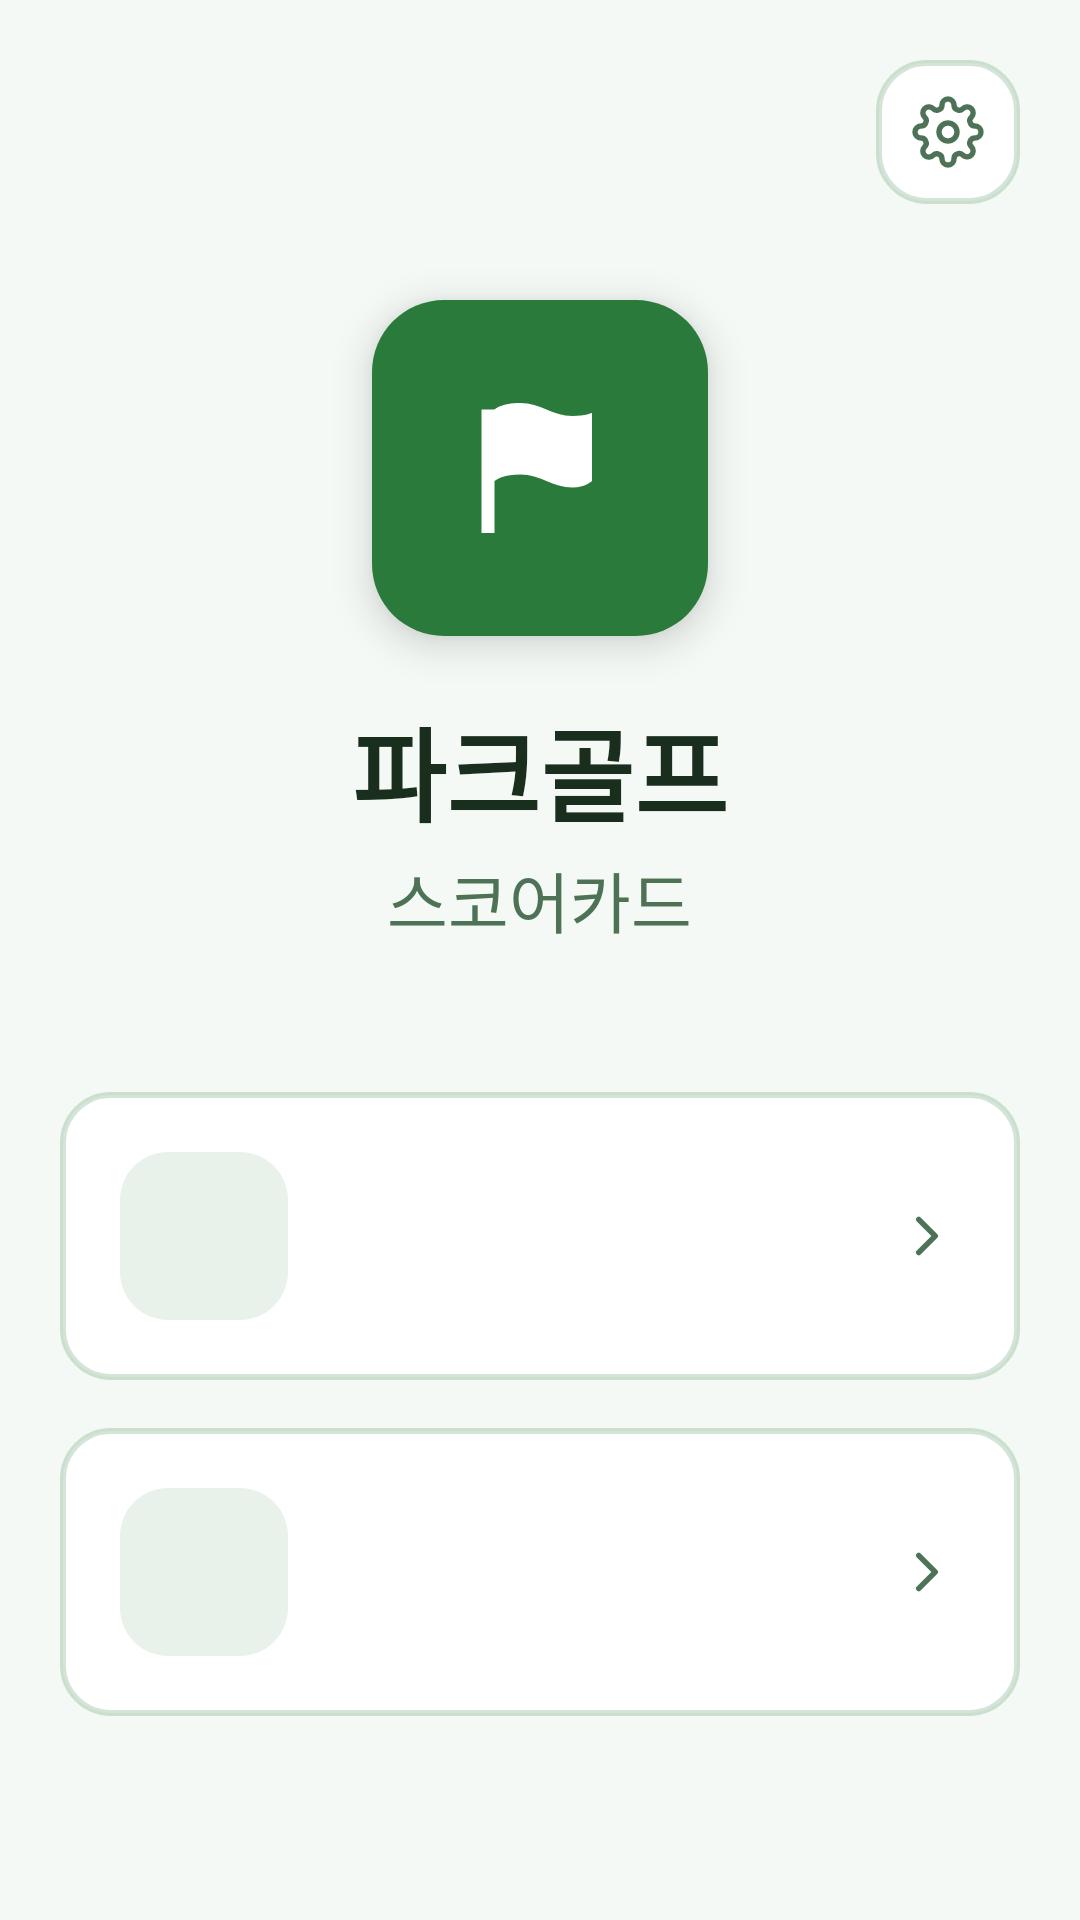

Point at icon controls on the screen. Image size 1080px x 1920px, points as (x=x, y=y).
chevron right: (x=927, y=1236), (x=927, y=1572)
flag: (x=536, y=468)
설정: (x=948, y=132)
